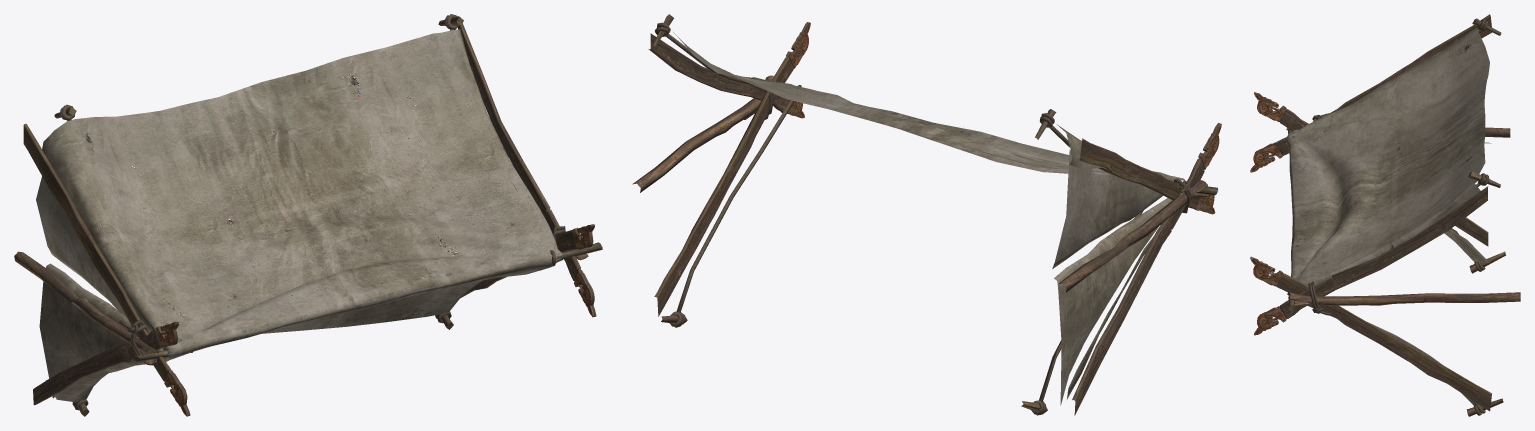
Rendered from VIK_PRO_Civilian_Tent_02A_LOD0-transformed.glb.
3 renders of one model, left to right at view 1: azimuth 30°, elevation 25°; view 2: azimuth 150°, elevation 25°; view 3: azimuth 270°, elevation 25°, orthographic. The views are drawn at different scales.
Parts seen in each view (by area): view 1: VIK_PRO_Civilian_Tent_02A_LOD0; view 2: VIK_PRO_Civilian_Tent_02A_LOD0; view 3: VIK_PRO_Civilian_Tent_02A_LOD0.
Boxes of the visible parts, bbox=[...] form: VIK_PRO_Civilian_Tent_02A_LOD0: bbox=[14, 14, 602, 416]; VIK_PRO_Civilian_Tent_02A_LOD0: bbox=[632, 14, 1221, 415]; VIK_PRO_Civilian_Tent_02A_LOD0: bbox=[1250, 14, 1520, 416].
Bounding box in the file's own units: 0.0474 × 0.03 × 0.0292.
4 materials, 4 textured.
